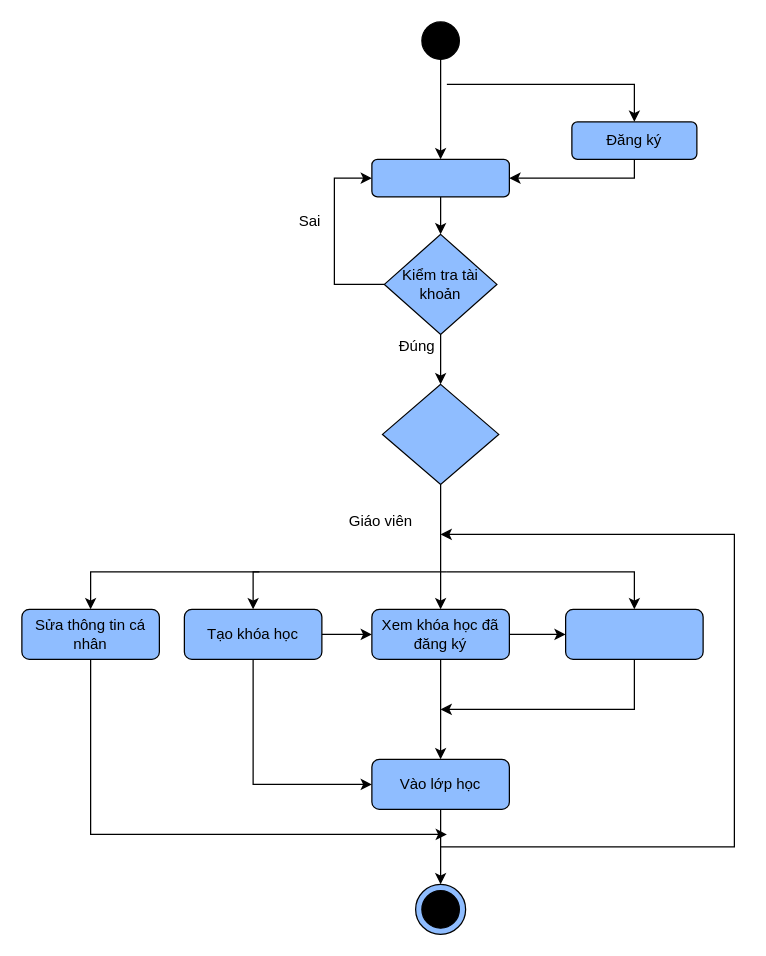
The diagram is 766 pixels wide and 956 high, and some of its shapes have lost their labels. The shapes that lost their labels are listed below. From the top down, each one's centre as x and y in pixels, then its label:
point 440,177: Đăng nhập
point 440,433: Xét quyền truy cập
point 633,633: Tìm kiếm khóa học
